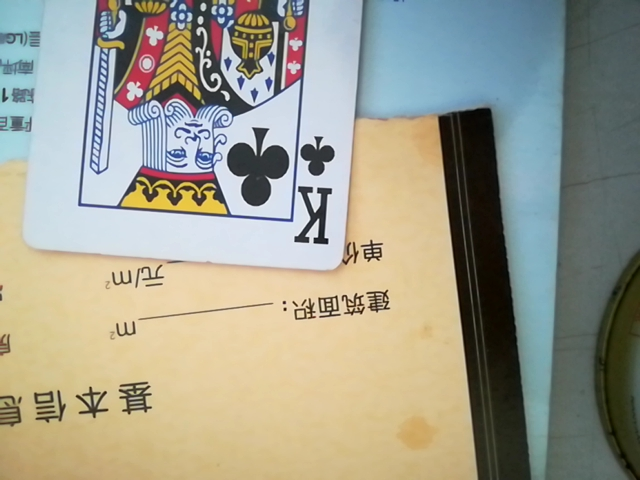mh k: (15, 3, 378, 280)
